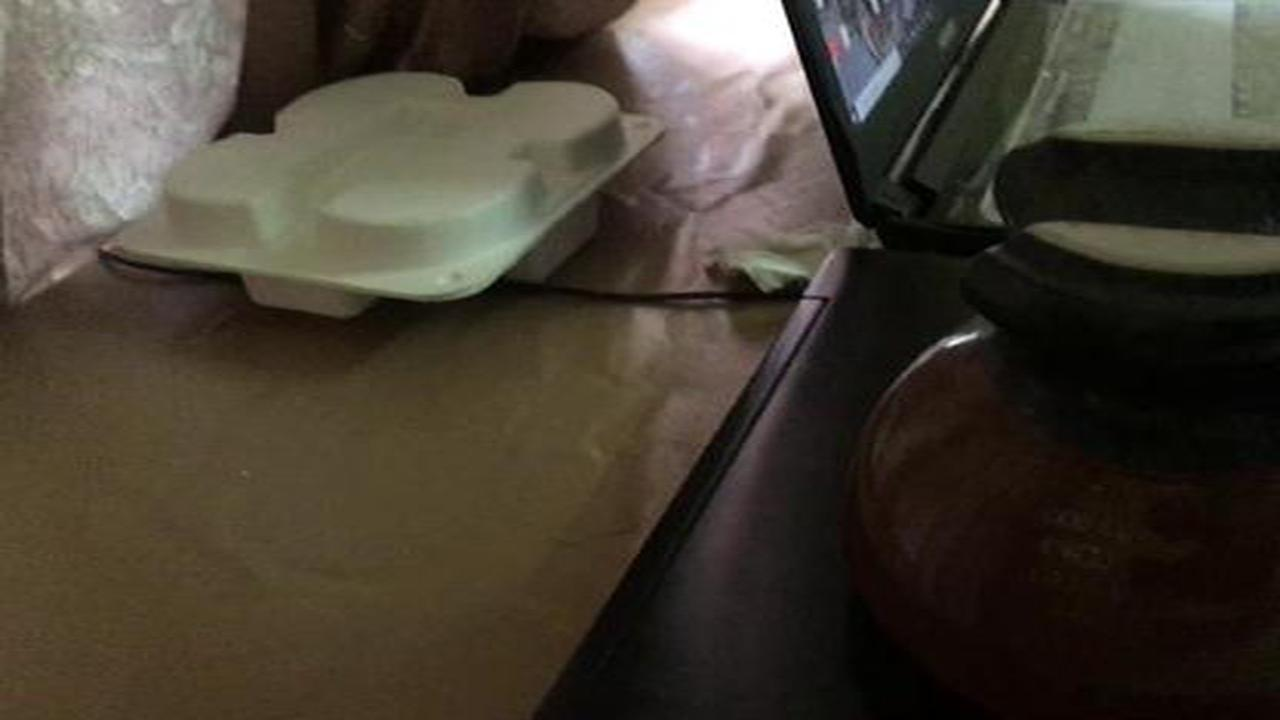insulator_pin: (828, 106, 1274, 689)
